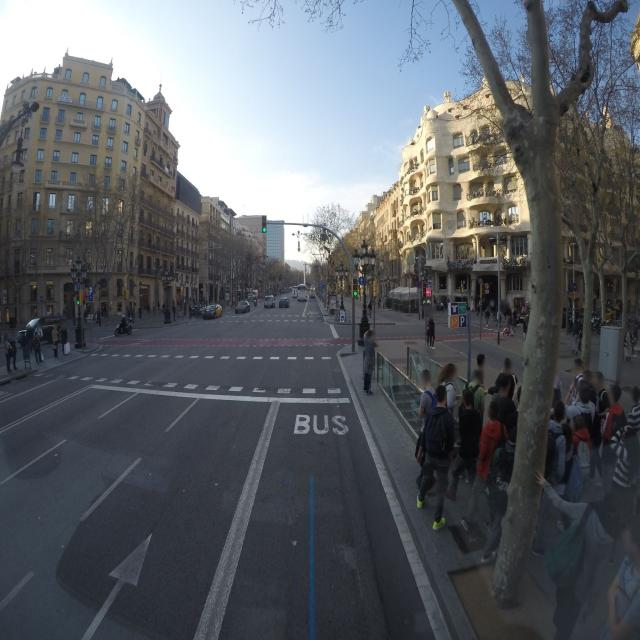car: (235, 298, 250, 314), (202, 305, 216, 320), (297, 286, 308, 302), (278, 294, 290, 308), (214, 302, 224, 318), (264, 294, 274, 309)
